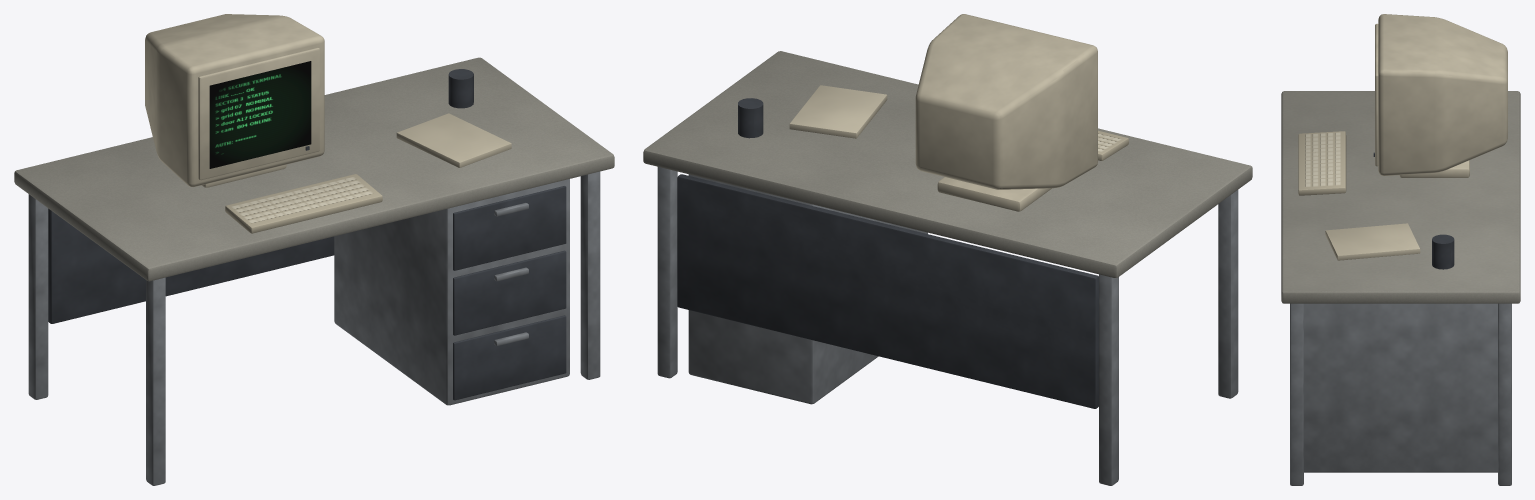
Rendered from prop_desk.glb.
The picture shows the model from 3 angles, left to right: view 1: azimuth 30°, elevation 25°; view 2: azimuth 150°, elevation 25°; view 3: azimuth 270°, elevation 25°; orthographic projection. The views are drawn at different scales.
Parts seen in each view (by area): view 1: prop_desk; view 2: prop_desk; view 3: prop_desk.
Boxes of the visible parts, <box> form: prop_desk: <box>14,14,614,485</box>; prop_desk: <box>643,14,1252,485</box>; prop_desk: <box>1281,14,1520,485</box>.
Size of the model in its own units: 1.7 by 1.25 by 0.85.
Materials: 6 (6 with a texture image).
